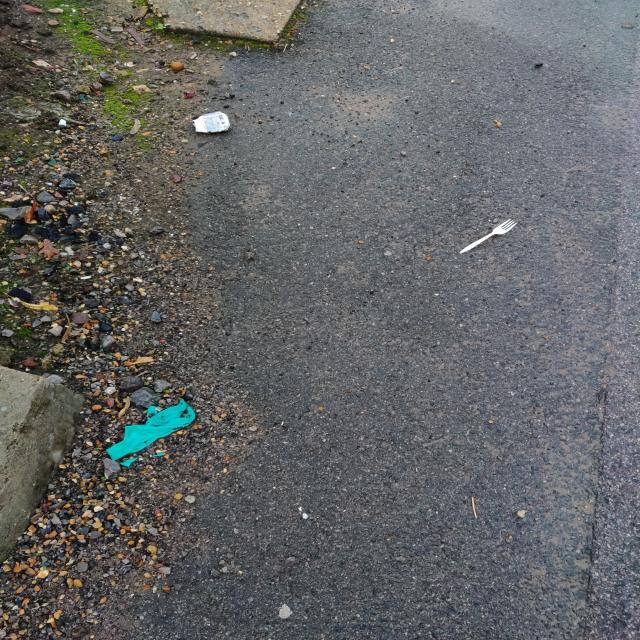litter: (188, 99, 241, 135)
